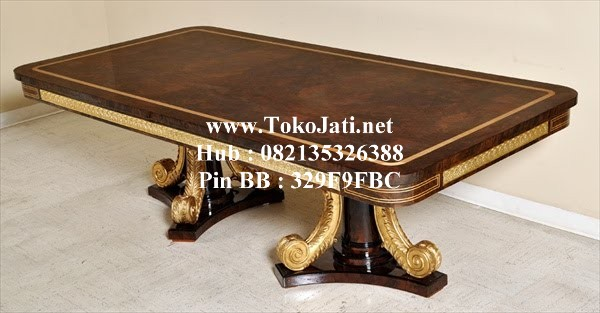Carving Table: (31, 24, 562, 294)
